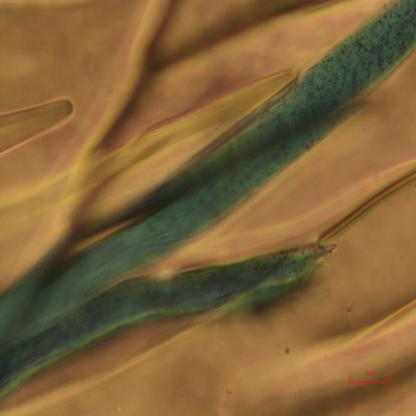Air bubble: (0, 94, 76, 160)
Background material: (81, 0, 290, 183), (325, 158, 416, 414)
Microfibre: (0, 0, 416, 349), (0, 240, 337, 390)
